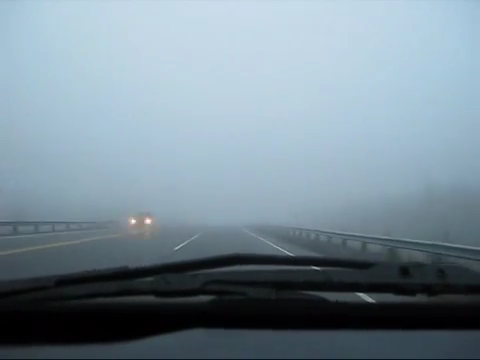car: (127, 210, 154, 230)
